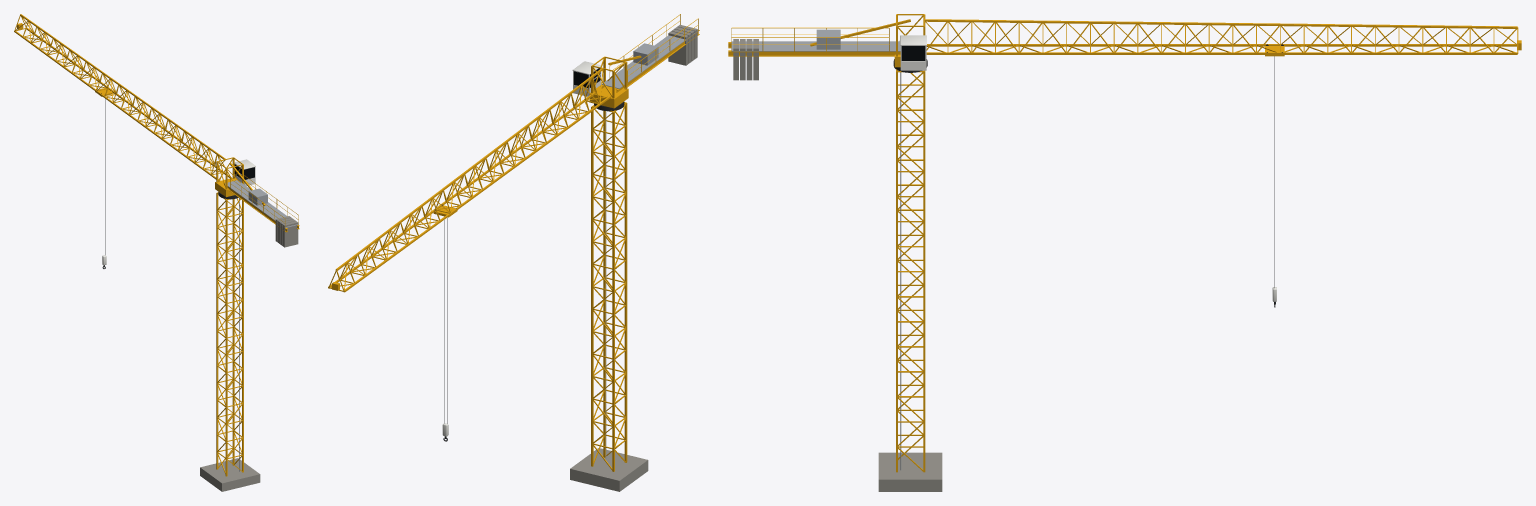
The model's file is plant.crane.tower_flat_30.glb.
The picture shows the model from 3 angles, left to right: view 1: azimuth 30°, elevation 25°; view 2: azimuth 150°, elevation 25°; view 3: azimuth 270°, elevation 25°; orthographic projection. The views are drawn at different scales.
Parts seen in each view (by area): view 1: slew__plant_yellow, mast__plant_yellow, base__concrete, slew__steel_galvanised, slew__concrete; view 2: slew__plant_yellow, mast__plant_yellow, base__concrete, slew__steel_galvanised, slew__concrete, mast__steel_galvanised, hook__steel_dark, slew__paint_white; view 3: slew__plant_yellow, mast__plant_yellow, base__concrete, slew__steel_galvanised, slew__concrete.
Part boxes in pixels (x1,y1,x2,y2): slew__plant_yellow: [14, 14, 299, 232]; mast__plant_yellow: [216, 192, 243, 476]; base__concrete: [200, 458, 260, 491]; slew__steel_galvanised: [225, 180, 298, 228]; slew__concrete: [275, 216, 298, 247]; slew__plant_yellow: [328, 14, 699, 292]; mast__plant_yellow: [591, 102, 627, 471]; base__concrete: [570, 448, 648, 491]; slew__steel_galvanised: [602, 30, 697, 88]; slew__concrete: [668, 24, 697, 65]; mast__steel_galvanised: [605, 111, 606, 458]; hook__steel_dark: [443, 218, 447, 441]; slew__paint_white: [572, 61, 601, 96]; slew__plant_yellow: [728, 14, 1521, 67]; mast__plant_yellow: [896, 69, 925, 472]; base__concrete: [878, 452, 942, 491]; slew__steel_galvanised: [731, 29, 900, 51]; slew__concrete: [733, 39, 758, 80].
Bounding box in the file's own units: 4.58 × 33.37 × 52.25.
